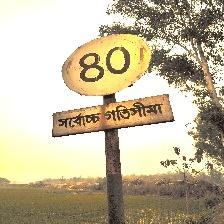Speed-limit: (53, 32, 171, 138)
